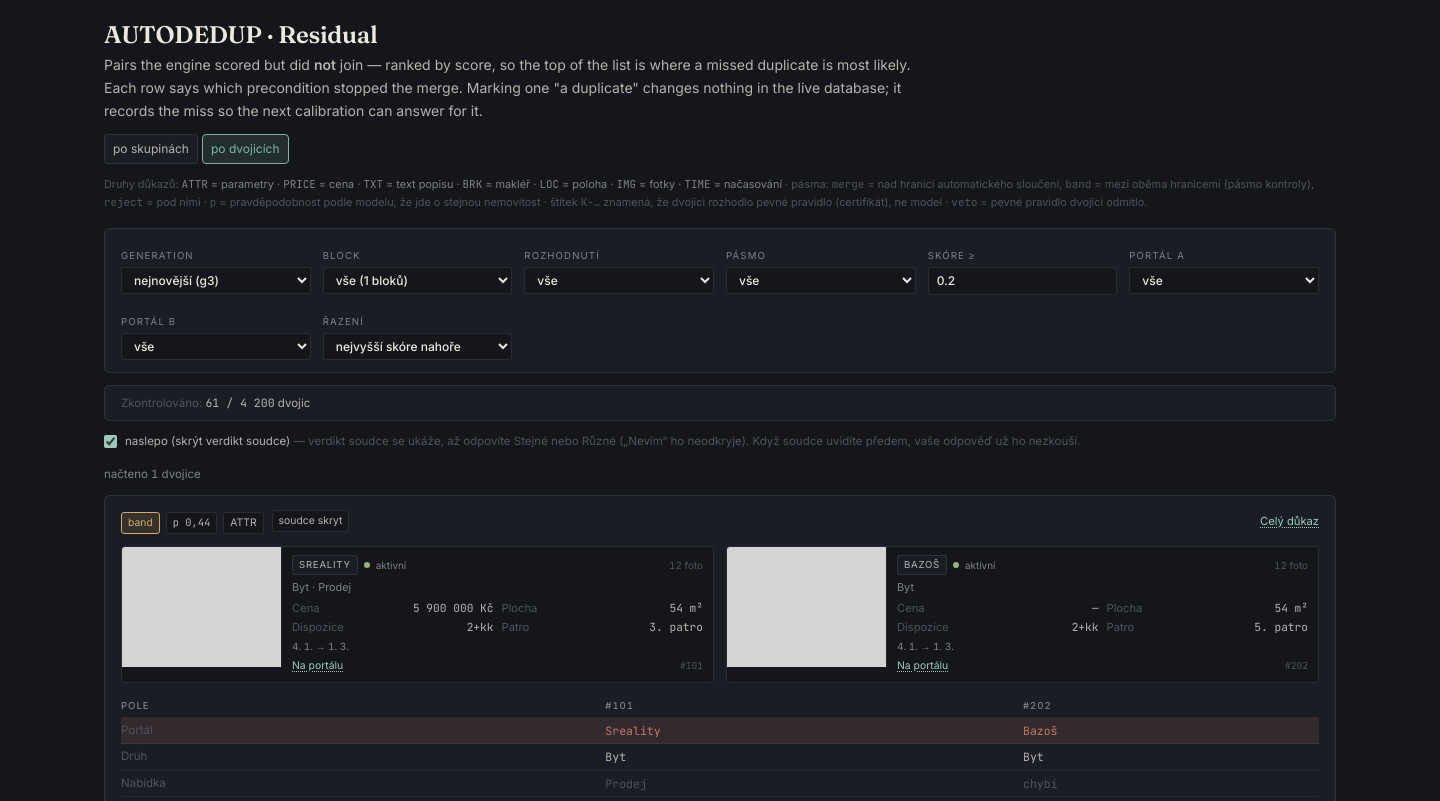
Test case: <AutodedupResidual> › says so rather than filtering silently when only one portal is chosen
Select "Sreality" in the dropdown labelled "Portál A". click: (1224, 280)
box: [1129, 267, 1319, 294]
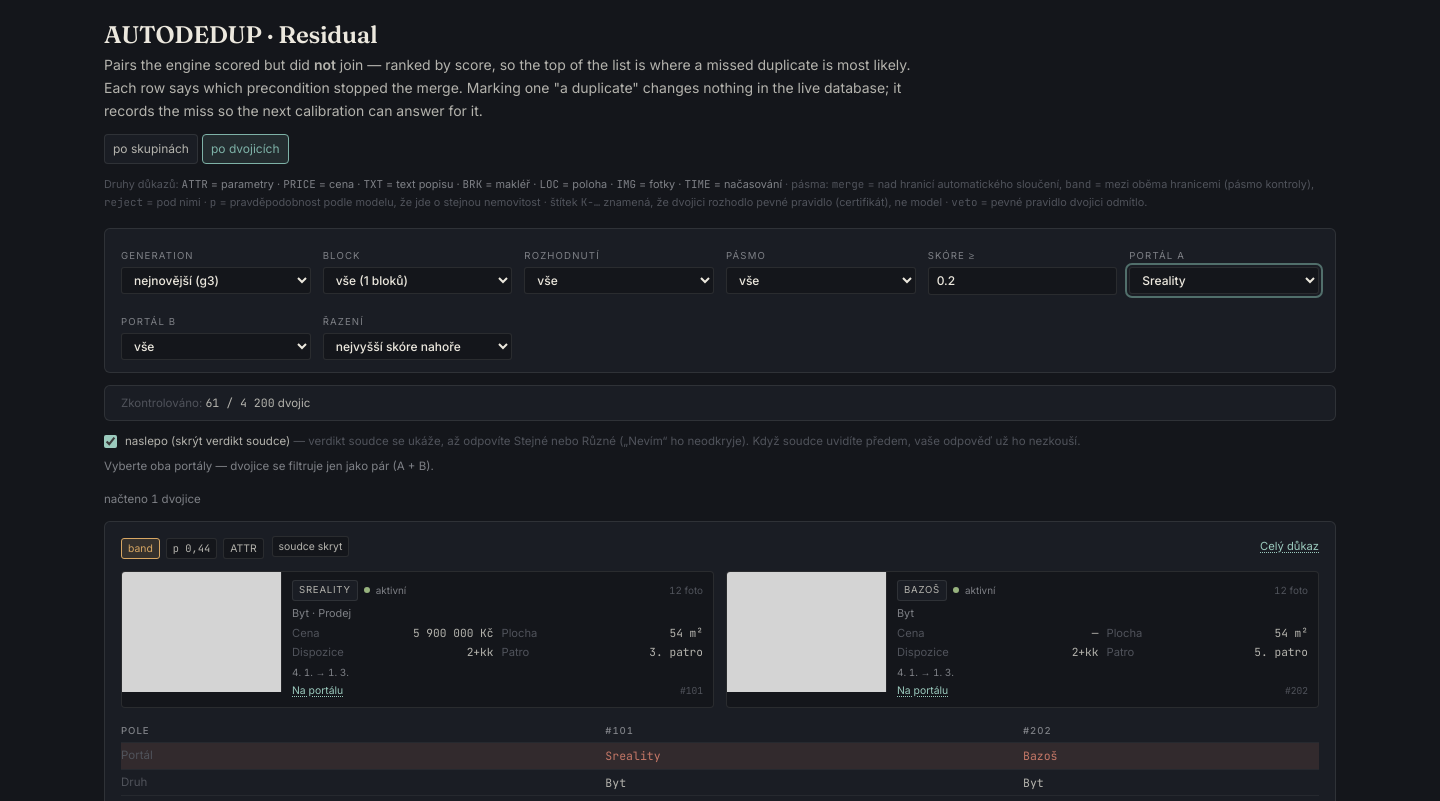
expect the text "Vyberte oba portály" is shown: met, box [104, 459, 434, 473]
